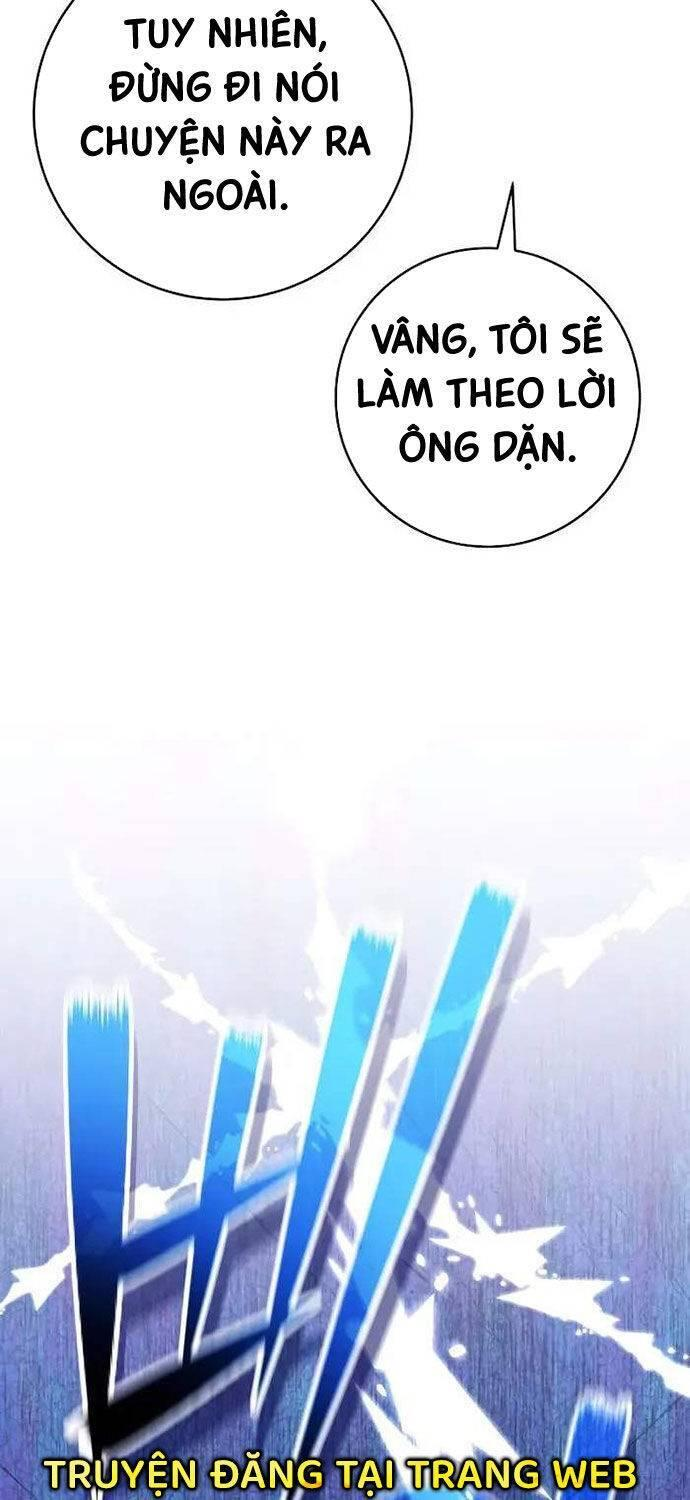quangcao: (40, 1452, 644, 1500)
